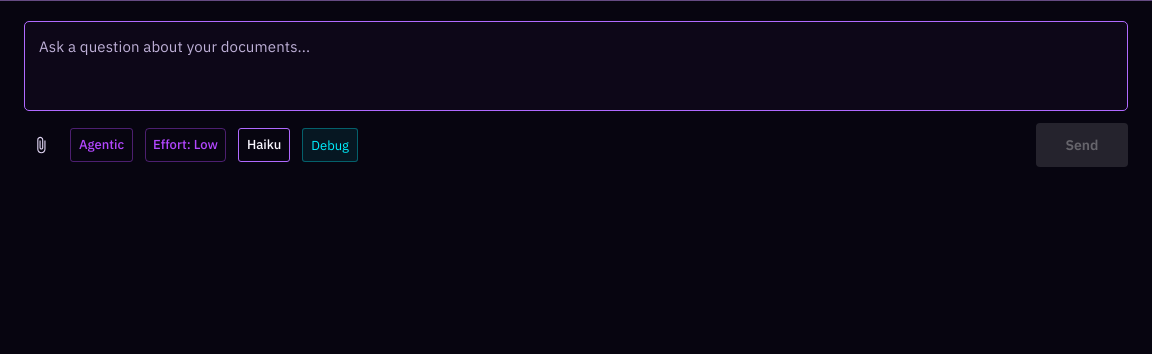
it: labels catalog failure instead of claiming legacy choices are discovered
Click the button "Haiku" at (264, 145), box [238, 128, 290, 162]
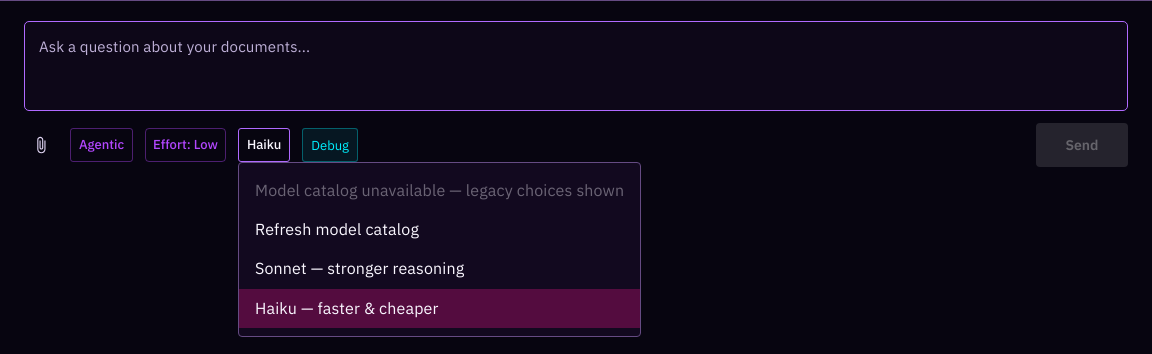
Now the menu item "Model catalog unavailable — legacy choices shown" is shown, box [255, 180, 624, 200]
Now the menu item "Refresh model catalog" is shown, box [255, 219, 419, 239]
